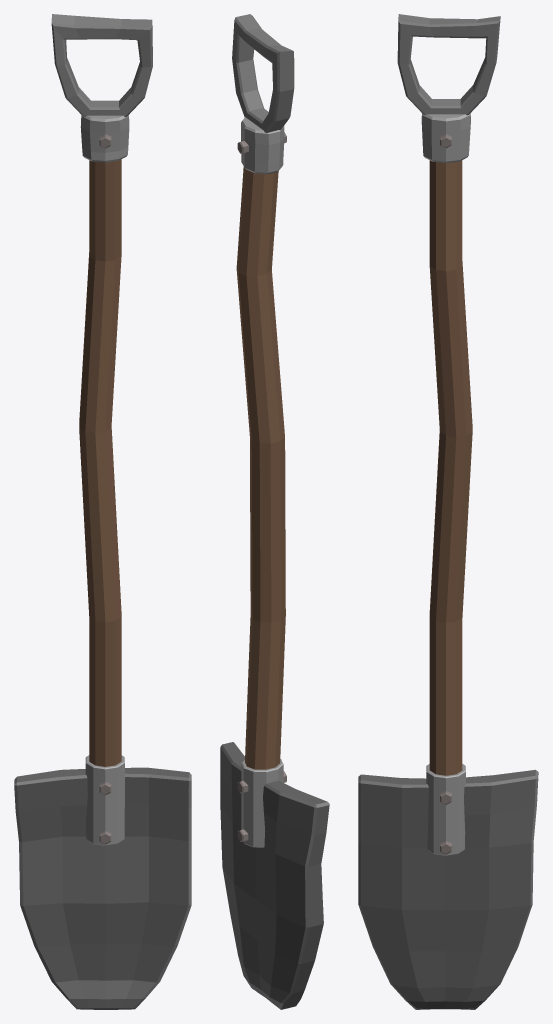
File: Shovel.fbx
The picture shows the model from 3 angles, left to right: view 1: azimuth 90°, elevation 25°; view 2: azimuth 210°, elevation 25°; view 3: azimuth 270°, elevation 25°; orthographic projection. The views are drawn at different scales.
Parts seen in each view (by area): view 1: Shovel; view 2: Shovel; view 3: Shovel.
Part boxes in pixels (x1,y1,x2,y2): Shovel: [14, 14, 191, 1009]; Shovel: [220, 14, 329, 1009]; Shovel: [358, 14, 538, 1009].
Bounding box in the file's own units: 11.58 × 227 × 37.21.
